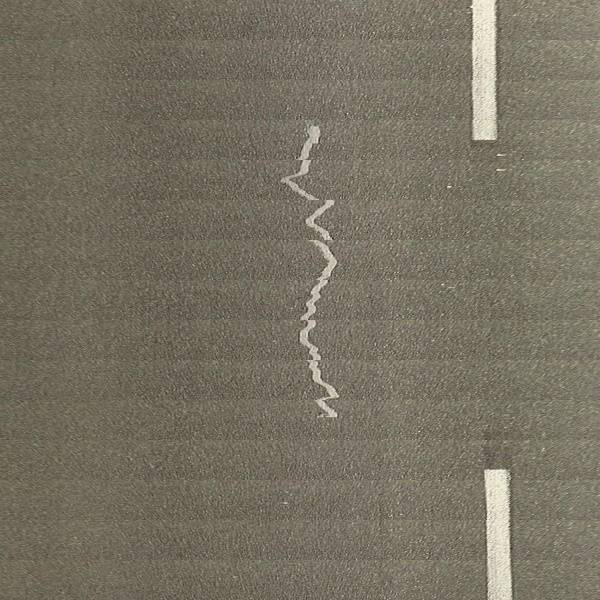road_damage: (276, 124, 344, 421)
